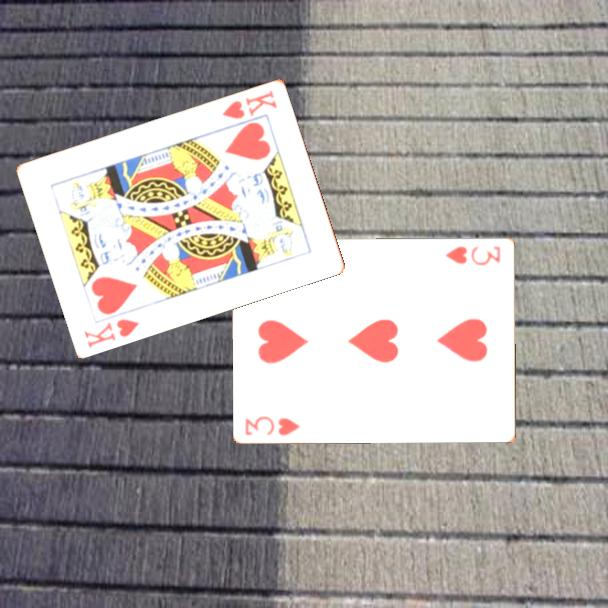h03: (442, 242, 503, 268), (242, 412, 303, 438)
h13: (219, 86, 280, 121), (81, 315, 142, 350)
